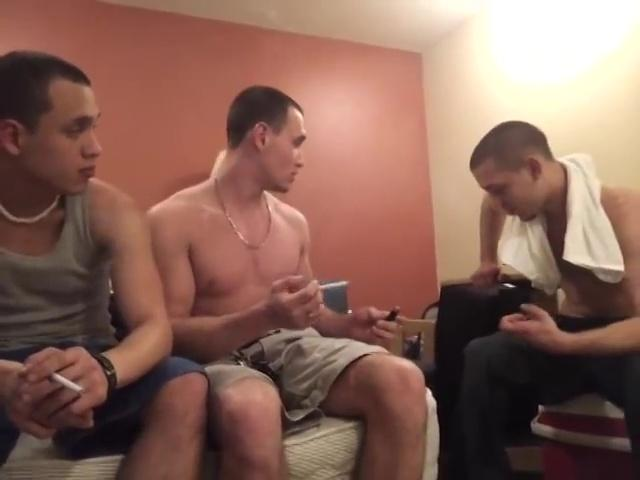cigarette: (48, 371, 86, 401), (314, 279, 351, 298)
